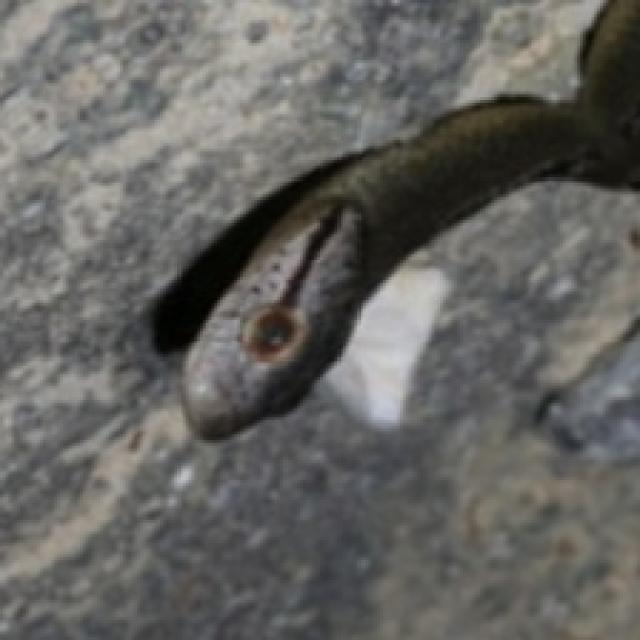dog-toothed cat snake: (151, 0, 637, 437), (154, 0, 637, 434)
